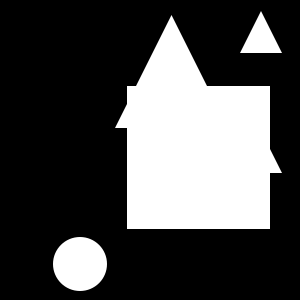circle: (127, 86, 270, 229)
rectangle: (53, 237, 107, 291)
triangle: (115, 15, 228, 128), (240, 11, 282, 53), (247, 138, 282, 173)
